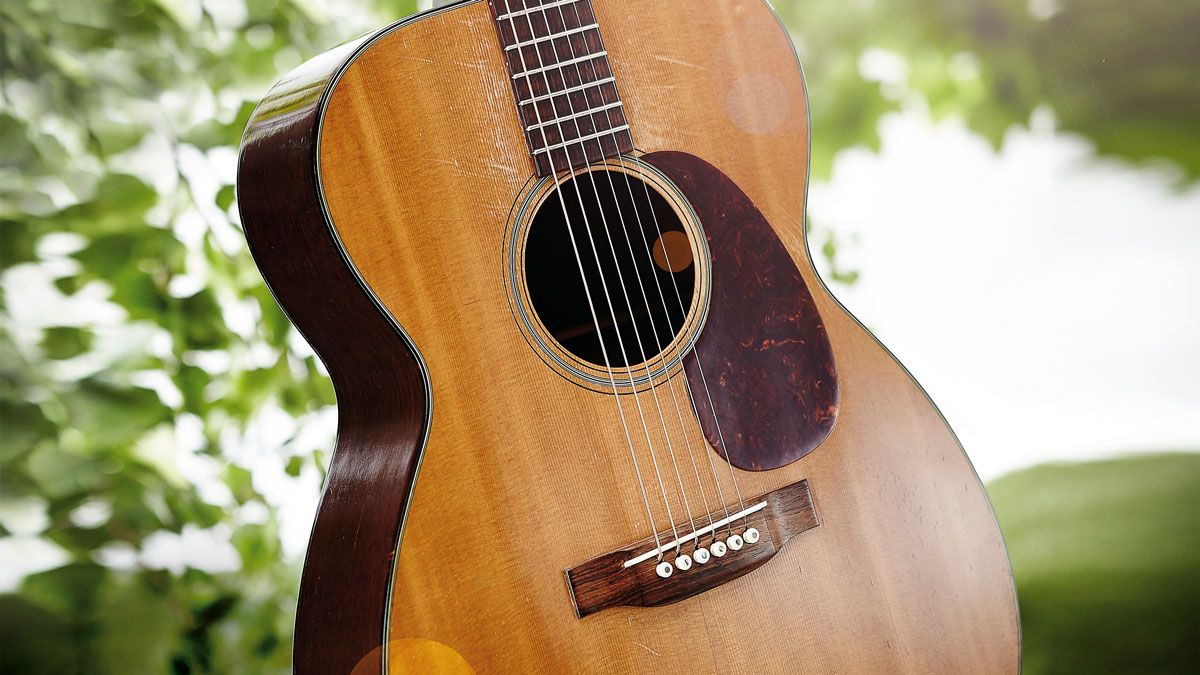guitar: (227, 0, 1024, 675)
